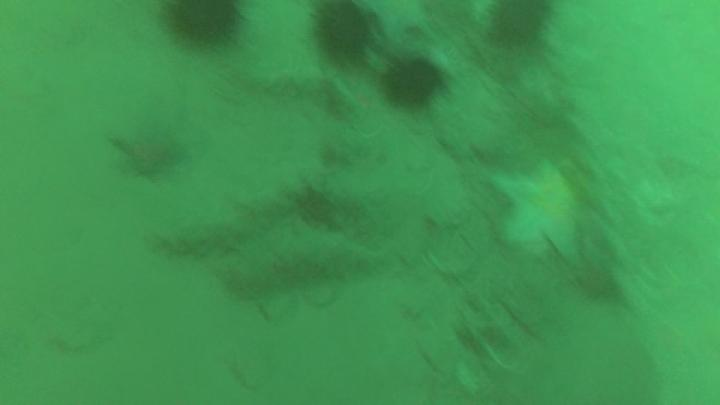echinus: (313, 4, 368, 60), (169, 1, 239, 43), (488, 1, 548, 45), (386, 59, 438, 104)
starfish: (495, 162, 588, 266), (112, 126, 186, 176)
